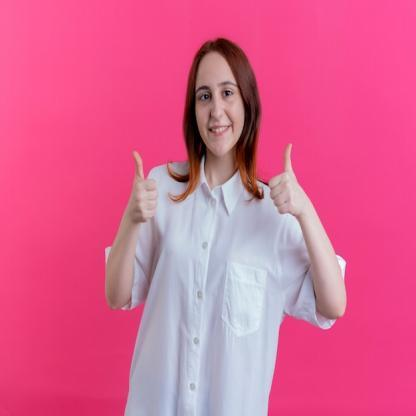thumb_up: (268, 139, 312, 222), (126, 148, 166, 225)
